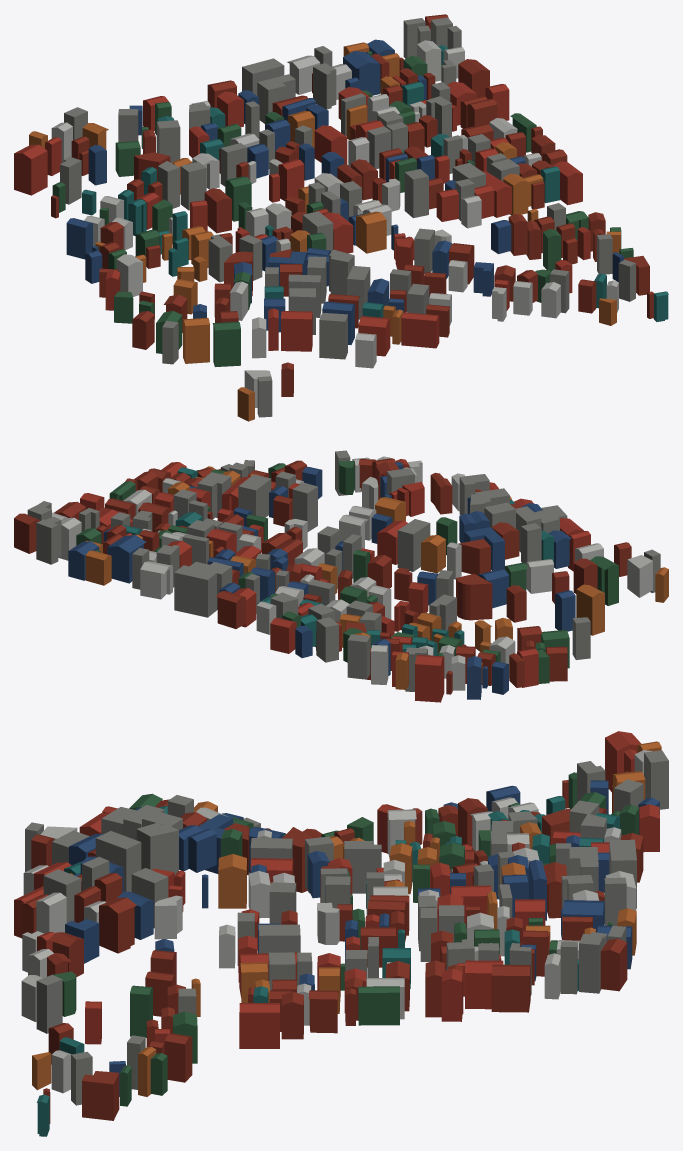
The model's file is near-17-109439-59470.4a03d798.glb.
3 renders of one model, top to bottom at view 1: azimuth 30°, elevation 25°; view 2: azimuth 150°, elevation 25°; view 3: azimuth 270°, elevation 25°, orthographic. The views are drawn at different scales.
Bounding box in the file's own units: 303 × 97.6 × 306.
